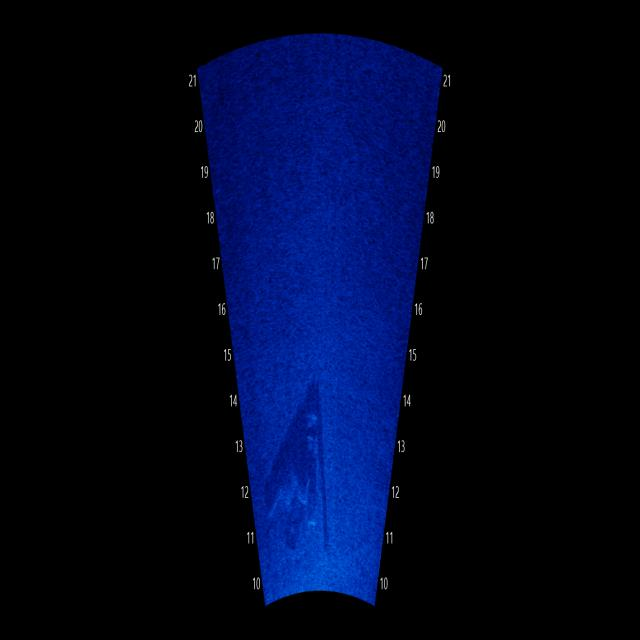triangle: (264, 385, 333, 563)
